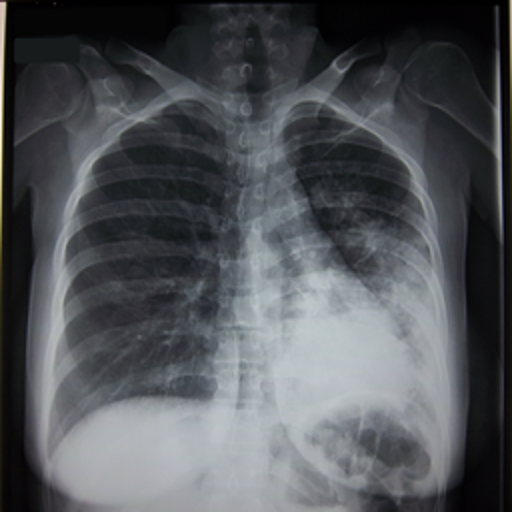TB: (359, 210, 437, 334)
